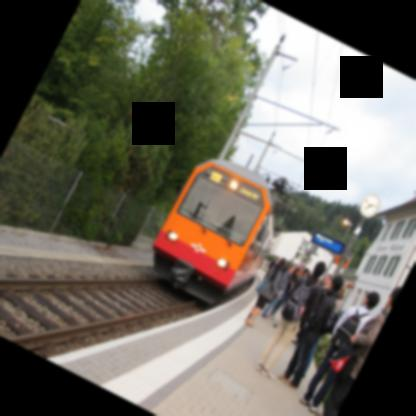backpack: (279, 276, 319, 323), (330, 312, 361, 348)
handbag: (328, 308, 387, 381), (321, 295, 339, 336), (255, 271, 274, 300)
